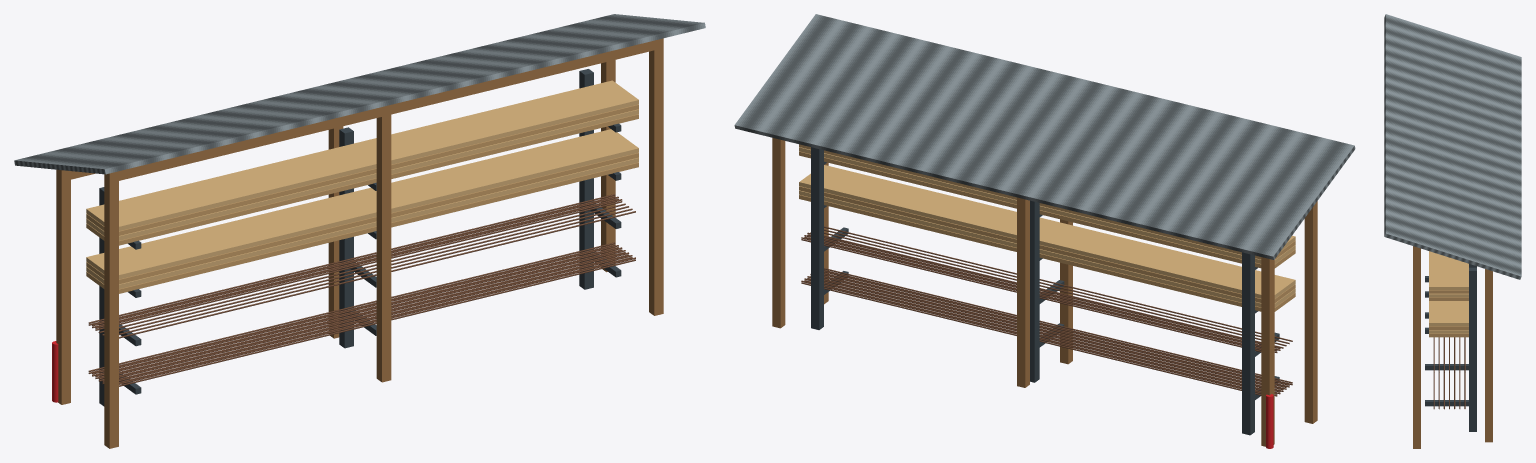
The model's file is naves.glb.
The picture shows the model from 3 angles, left to right: view 1: azimuth 30°, elevation 25°; view 2: azimuth 150°, elevation 25°; view 3: azimuth 270°, elevation 25°; orthographic projection. The views are drawn at different scales.
Size of the model in its own units: 6.5 by 3.09 by 1.72.
7 materials, 1 textured.
